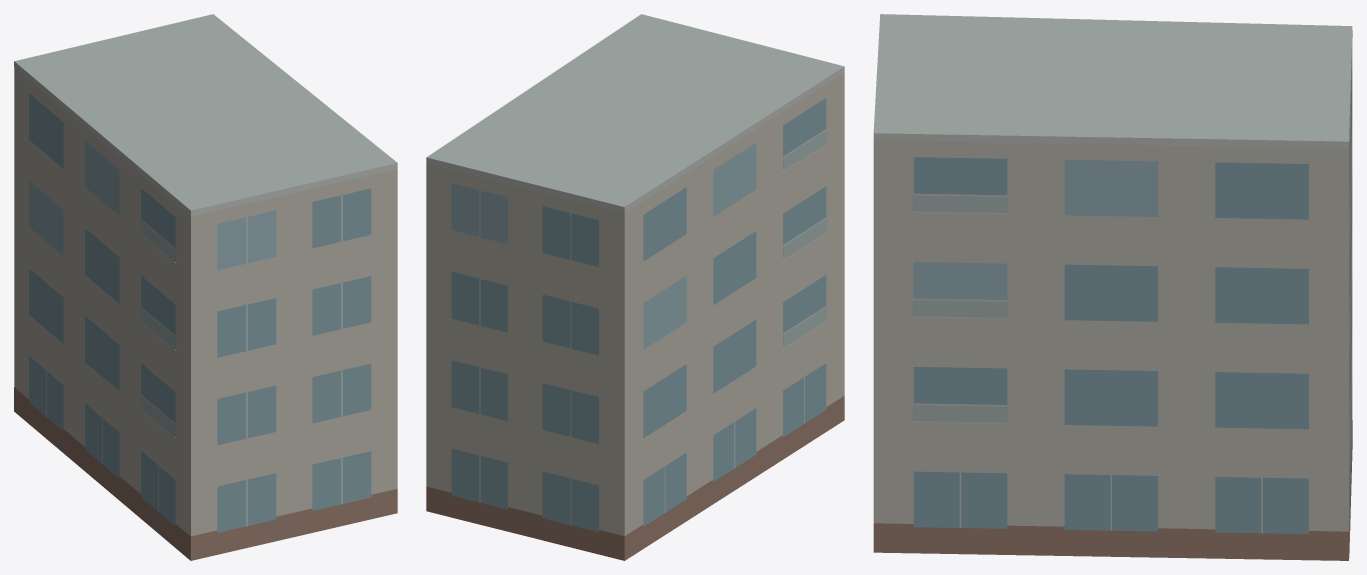
File: survey-upis-32760003.glb
The picture shows the model from 3 angles, left to right: view 1: azimuth 30°, elevation 25°; view 2: azimuth 150°, elevation 25°; view 3: azimuth 270°, elevation 25°; orthographic projection. The views are drawn at different scales.
Visible parts, largest first — view 1: survey-upis-32760003.tmp; view 2: survey-upis-32760003.tmp; view 3: survey-upis-32760003.tmp.
Boxes of the visible parts, x1,y1,x2,y2 form: survey-upis-32760003.tmp: (14, 14, 397, 560); survey-upis-32760003.tmp: (426, 14, 844, 560); survey-upis-32760003.tmp: (873, 14, 1352, 560).
Bounding box in the file's own units: 9.27 × 14.2 × 14.71.
